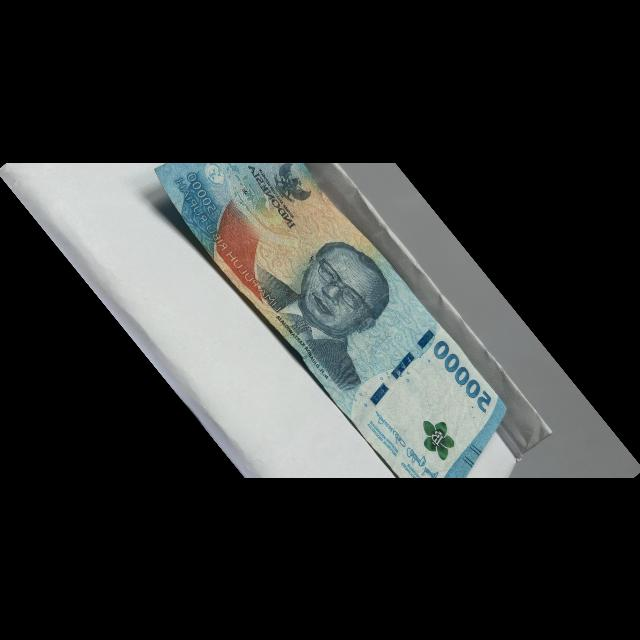Palsu-50k: (148, 86, 518, 494)
Tinta-Palsu-50k: (410, 410, 464, 464)
